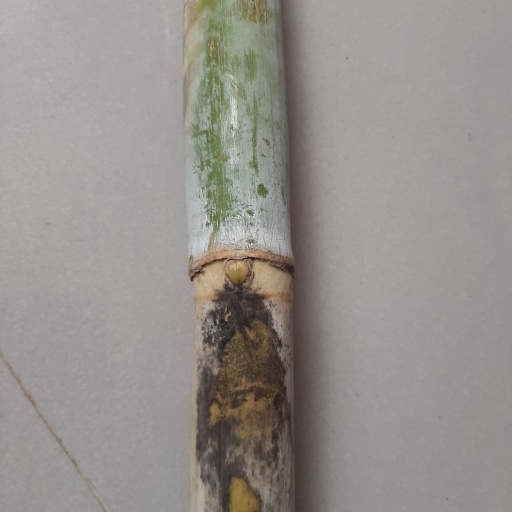Bud: (224, 258, 254, 290)
